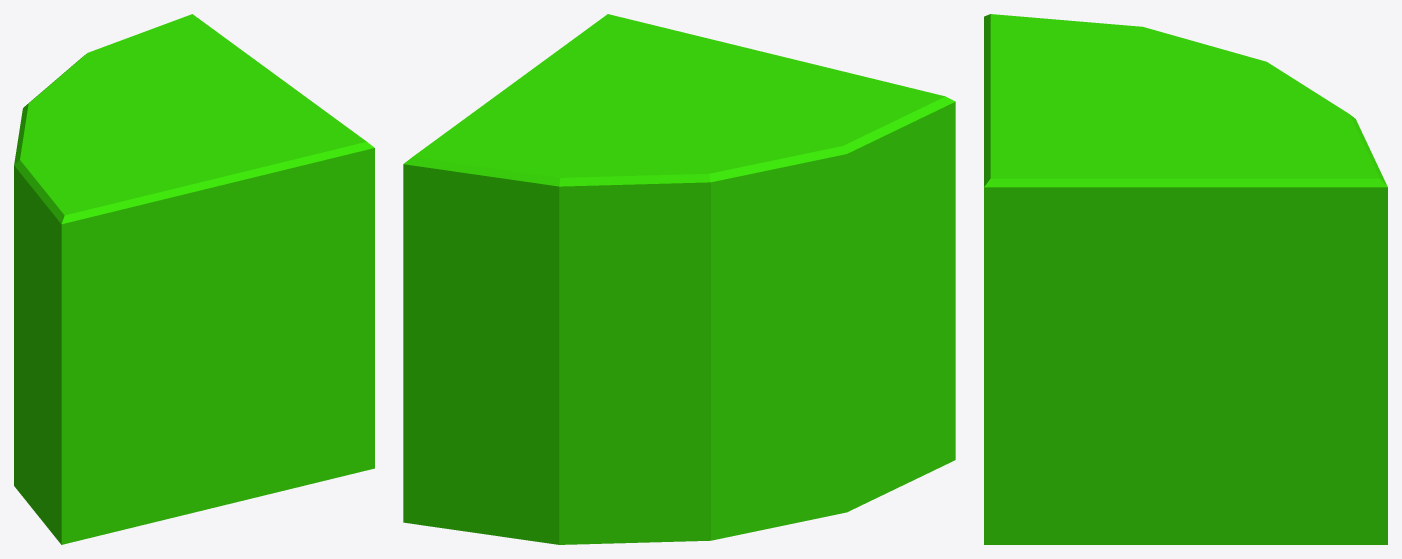
Rendered from round_3x3_02.fbx.
3 renders of one model, left to right at view 1: azimuth 30°, elevation 25°; view 2: azimuth 150°, elevation 25°; view 3: azimuth 270°, elevation 25°, orthographic. The views are drawn at different scales.
Visible parts, largest first — view 1: round_3x3_02; view 2: round_3x3_02; view 3: round_3x3_02.
Part boxes in pixels (bbox=[...]): round_3x3_02: bbox=[14, 14, 374, 544]; round_3x3_02: bbox=[403, 14, 955, 544]; round_3x3_02: bbox=[984, 14, 1387, 544].
Bounding box in the file's own units: 312 × 310 × 312.
